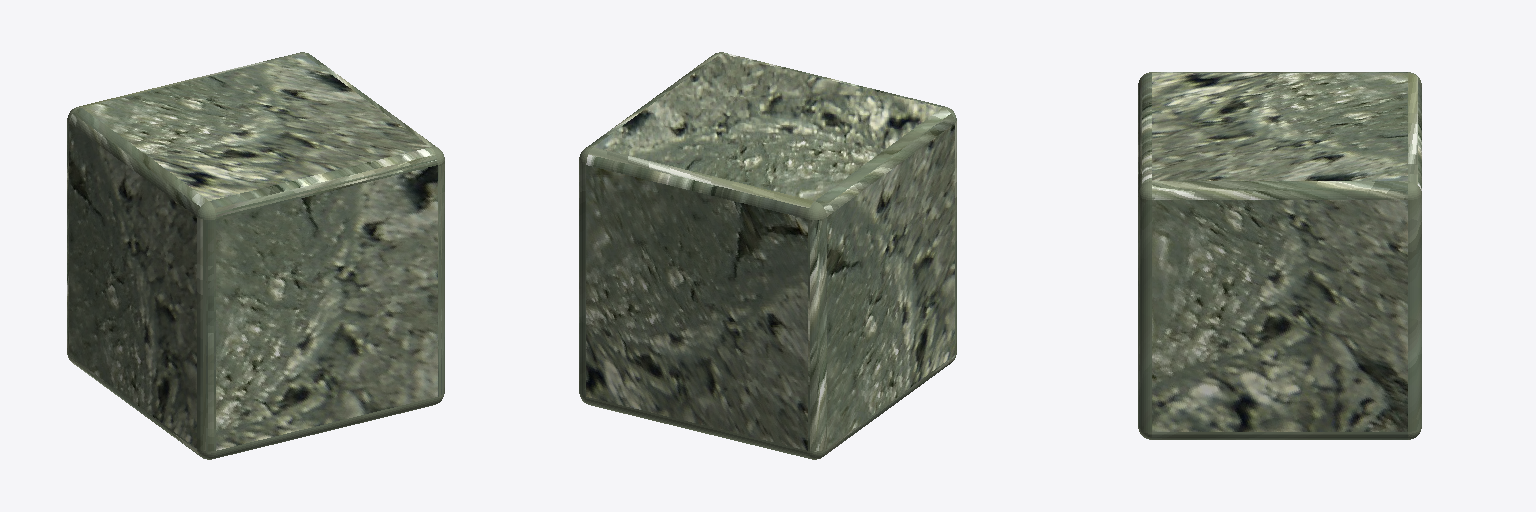
The picture shows the model from 3 angles: view 1: azimuth 30°, elevation 25°; view 2: azimuth 150°, elevation 25°; view 3: azimuth 270°, elevation 25°; orthographic projection.
Visible parts, largest first — view 1: Cube; view 2: Cube; view 3: Cube.
Part boxes in pixels (x1,y1,x2,y2): Cube: (67, 52, 444, 459); Cube: (579, 52, 956, 459); Cube: (1138, 72, 1421, 439).
Bounding box in the file's own units: 2 × 2 × 2.
1 materials, 1 textured.